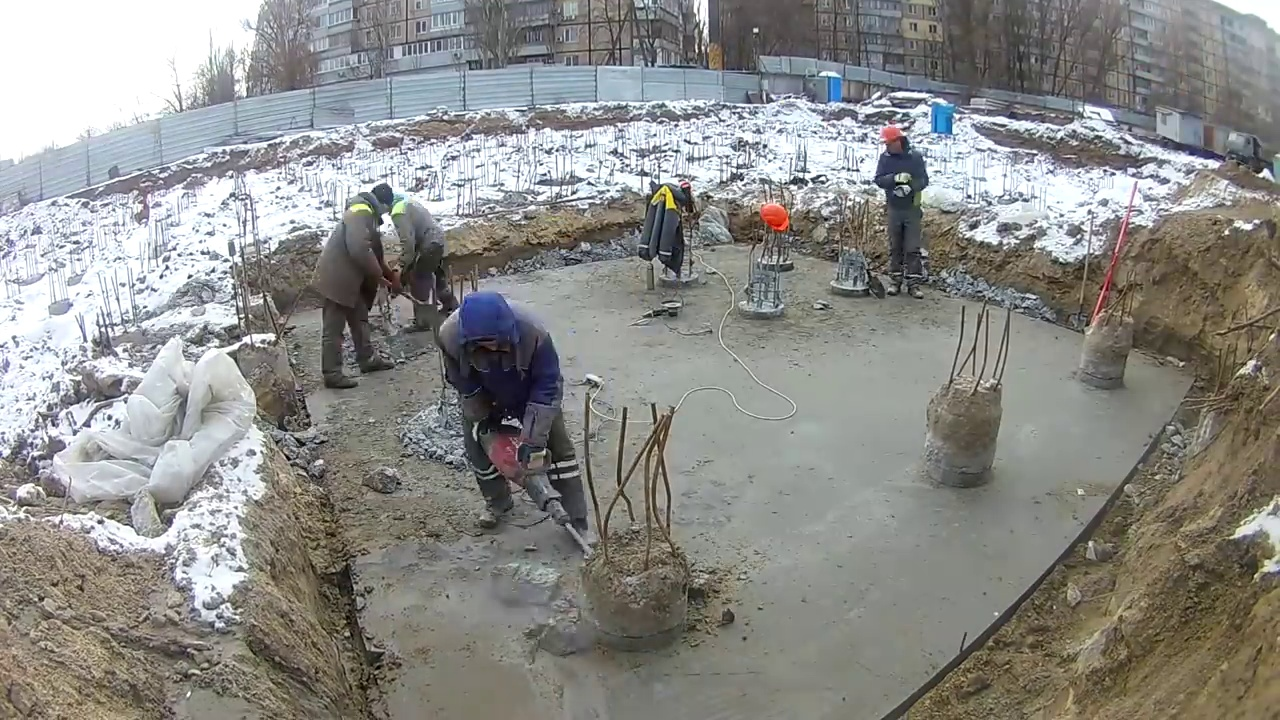helmet: (760, 203, 789, 232), (881, 127, 902, 142)
helmet-off: (460, 289, 518, 358), (369, 183, 396, 216)
helmet-on: (880, 126, 905, 161)
person: (433, 290, 590, 553), (312, 184, 396, 392), (360, 182, 460, 334), (873, 125, 931, 302)
